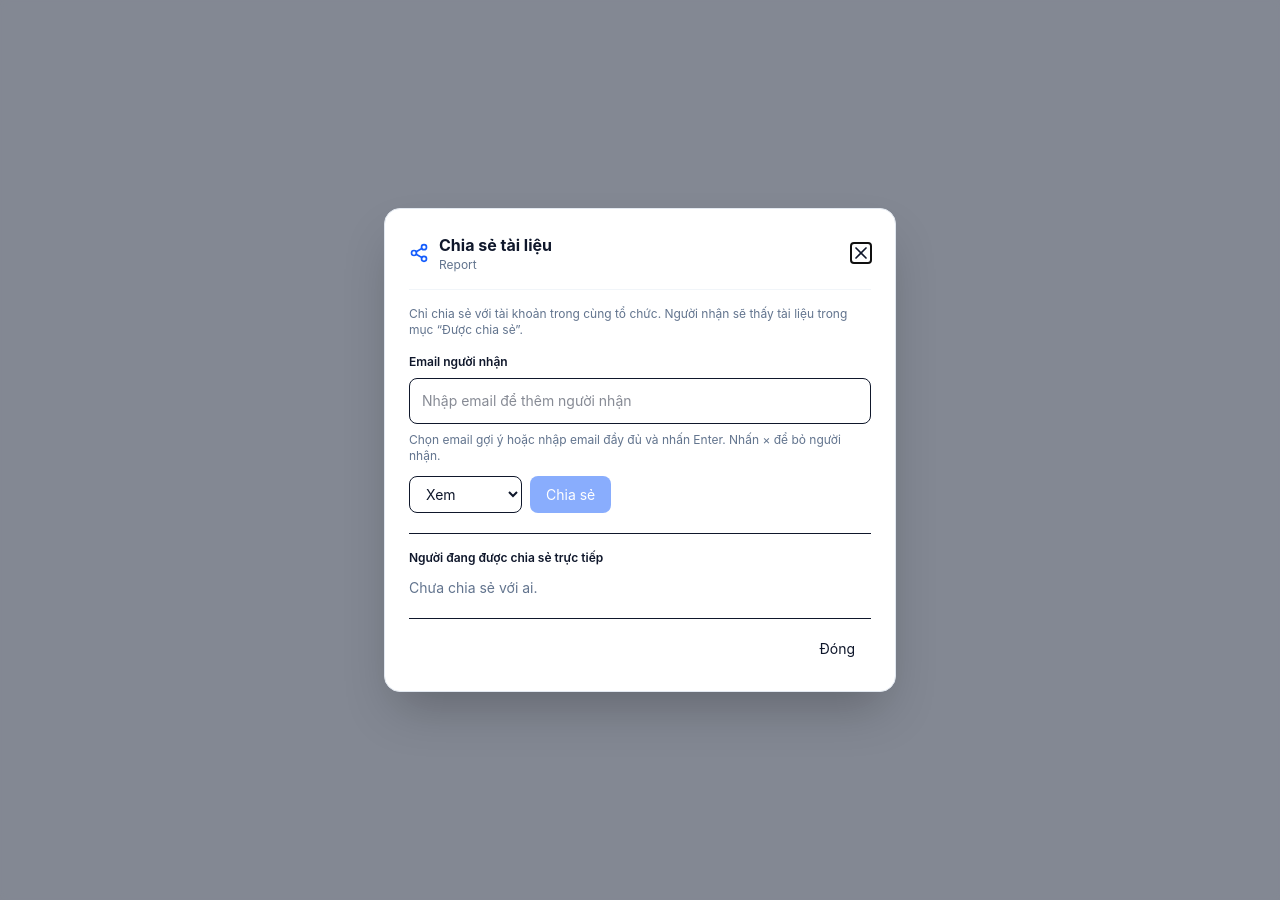
Sharing recipient picker › looks up after one character, highlights the match and keeps focus after selection
Type "A" into the dropdown labelled "Email người nhận" at (640, 401), box [418,387,862,415]
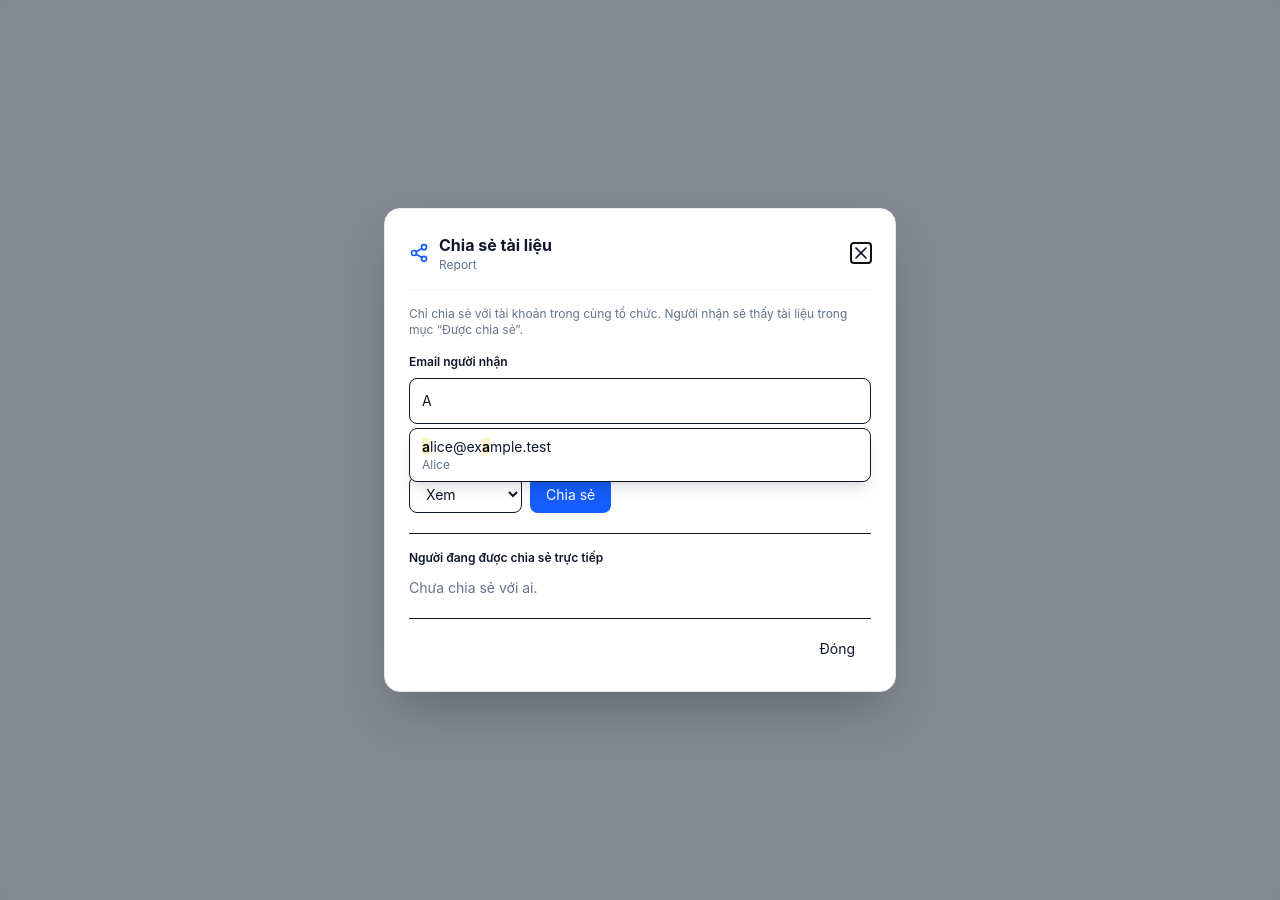
Expected: the 1st text "a" is shown, [422,438,430,455]
Click the option "alice@example.test Alice" at (486, 455), box [422,438,551,472]
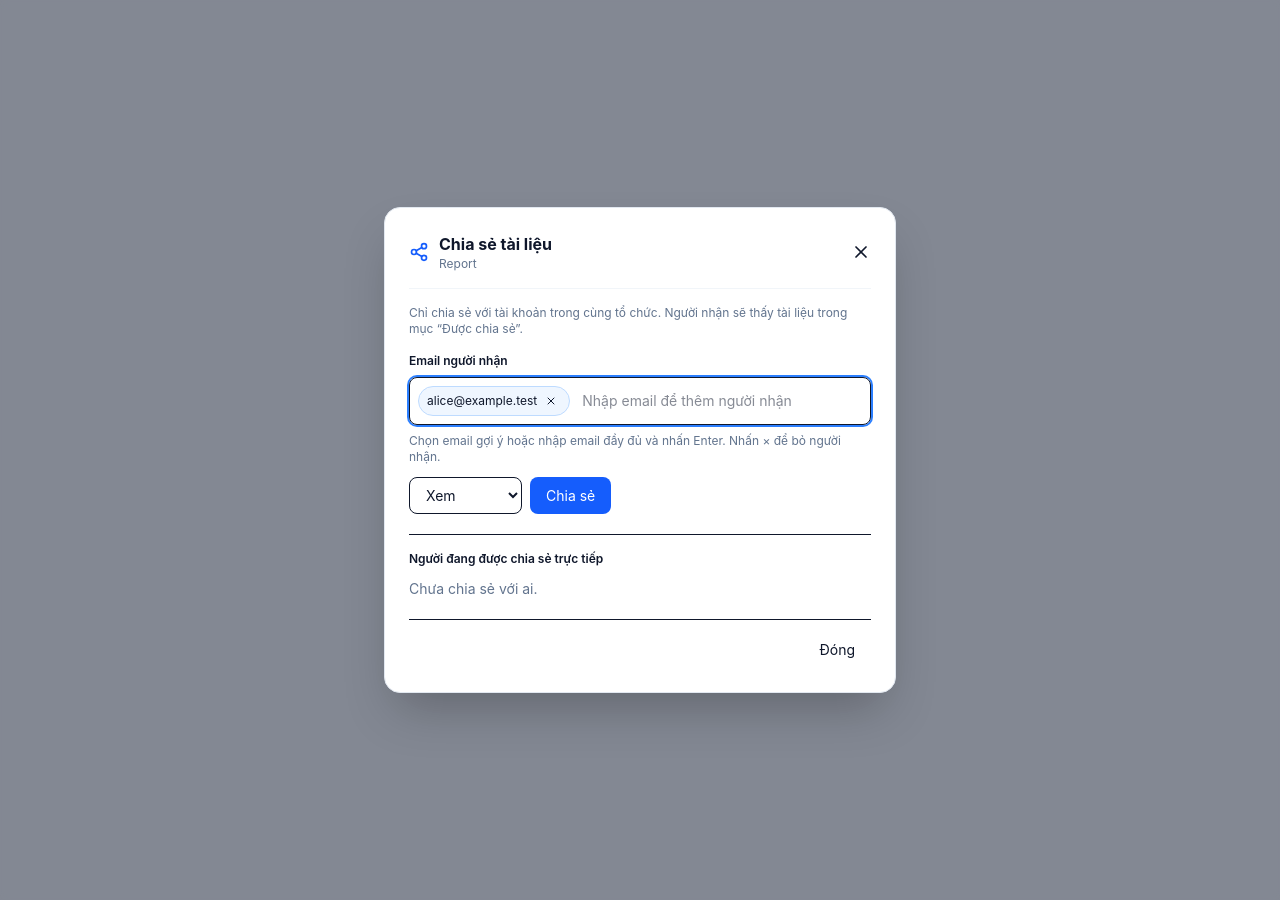
Expected: the button named "Xóa người nhận alice@example.test" is shown, [541,391,561,411]
Expected: the dropdown labelled "Email người nhận" is empty, [578,386,862,416]
